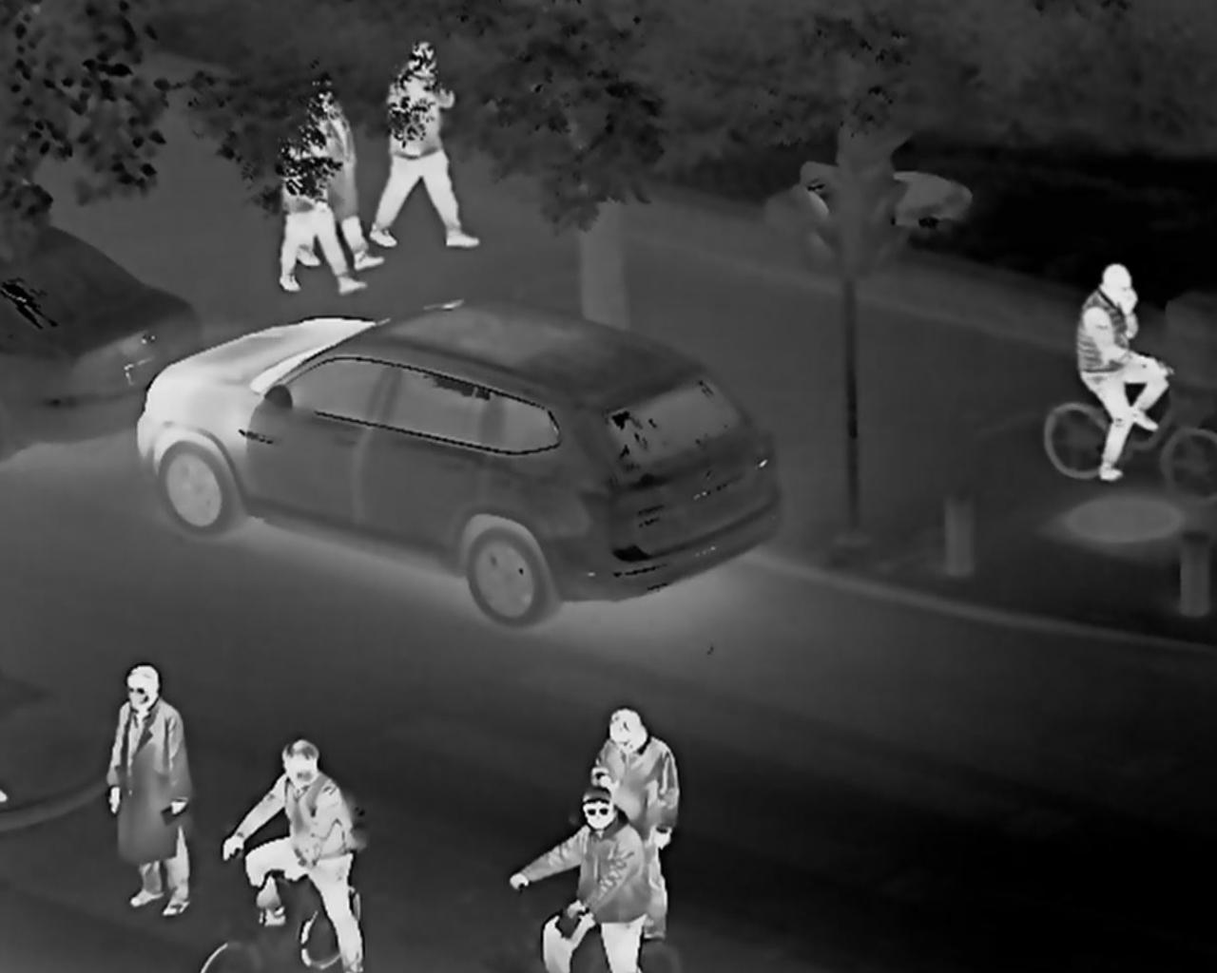person: (216, 736, 368, 968), (509, 789, 656, 973), (366, 44, 480, 253), (104, 660, 194, 917), (1072, 263, 1172, 484), (586, 704, 677, 944), (273, 105, 364, 302), (298, 71, 383, 275)
